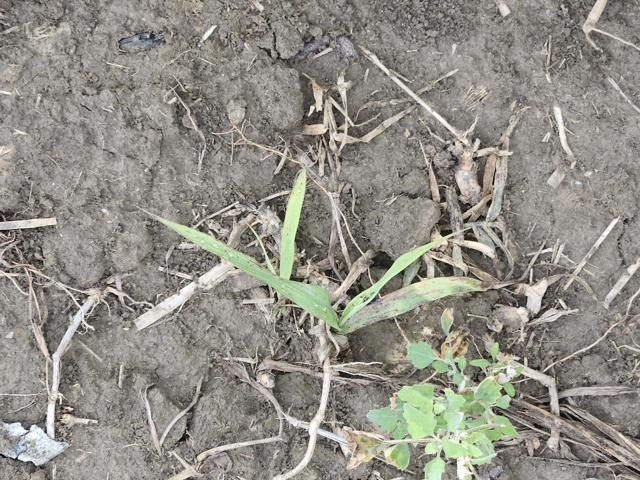bad weed: (179, 192, 485, 328), (325, 357, 521, 471)
